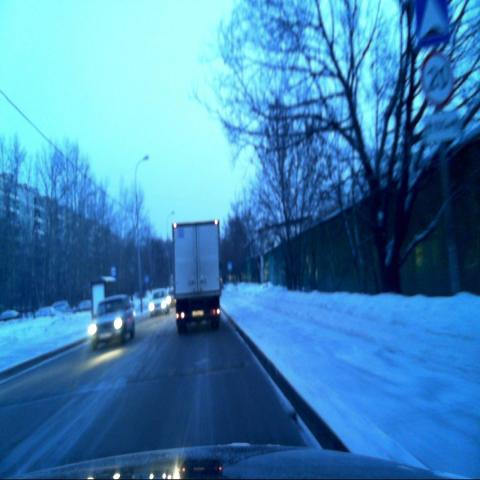8_2_1: (422, 112, 463, 144)
